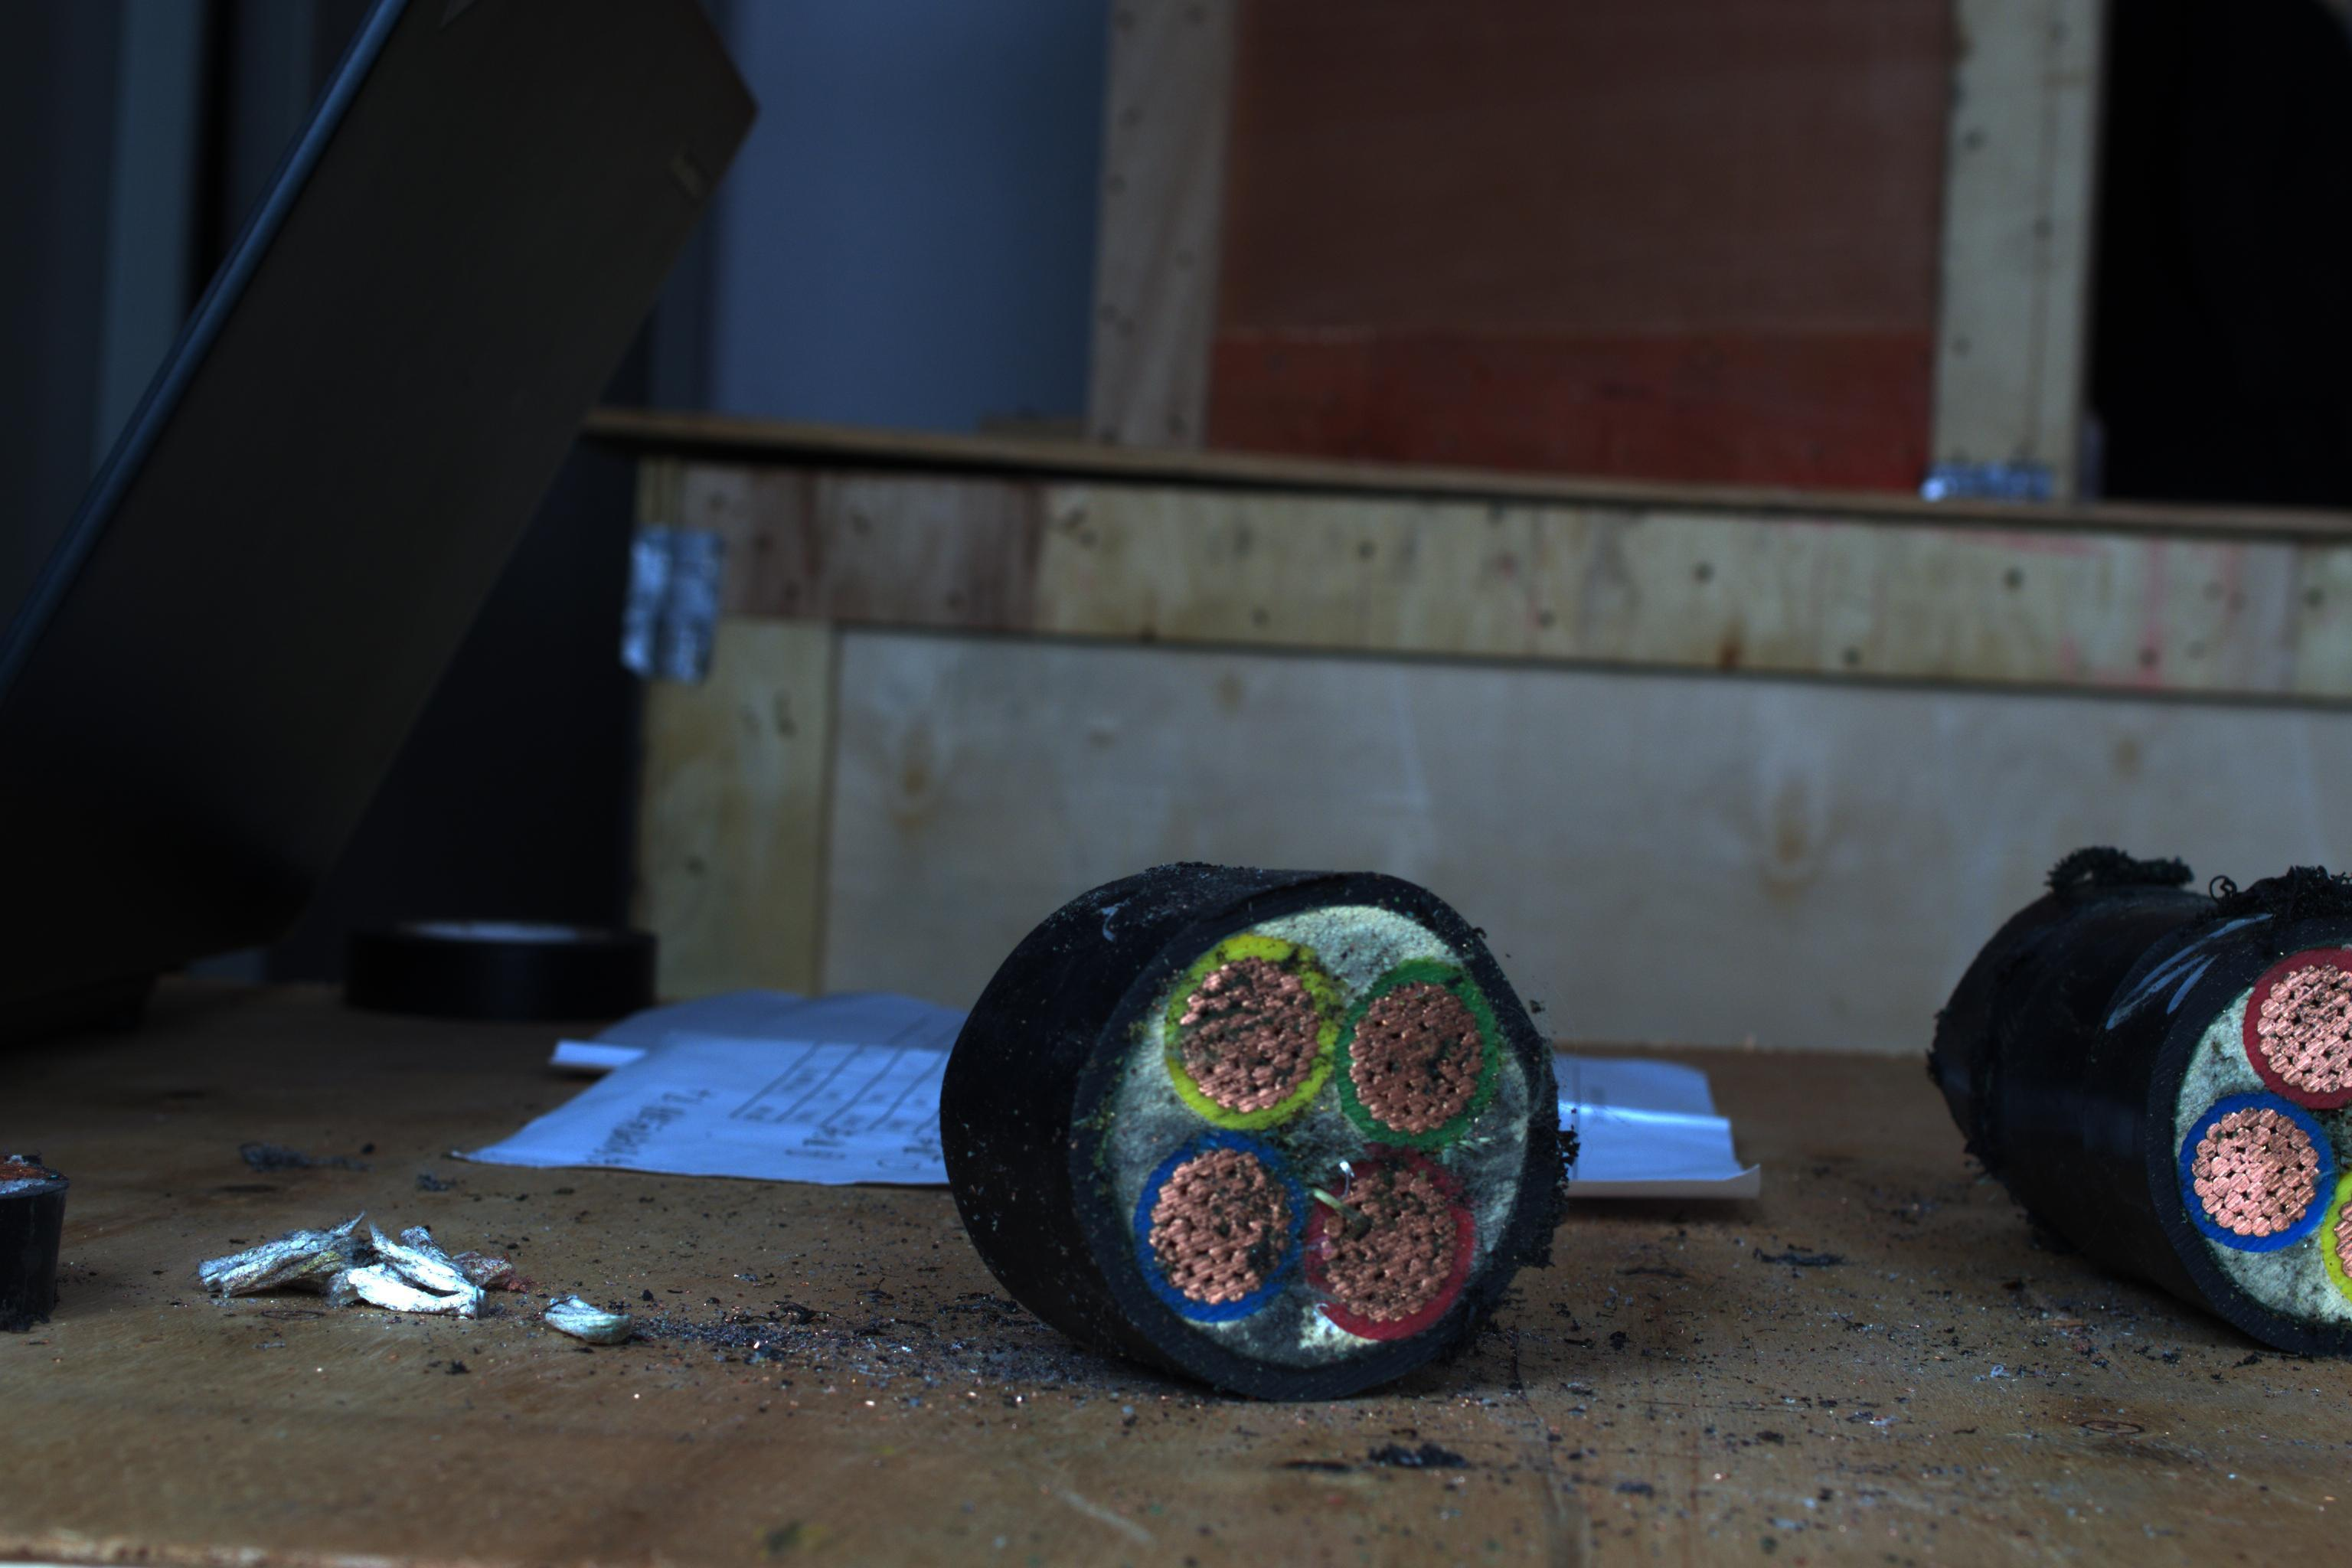YJV_0.6_1kV_4x185: (1067, 854, 1552, 1381)
